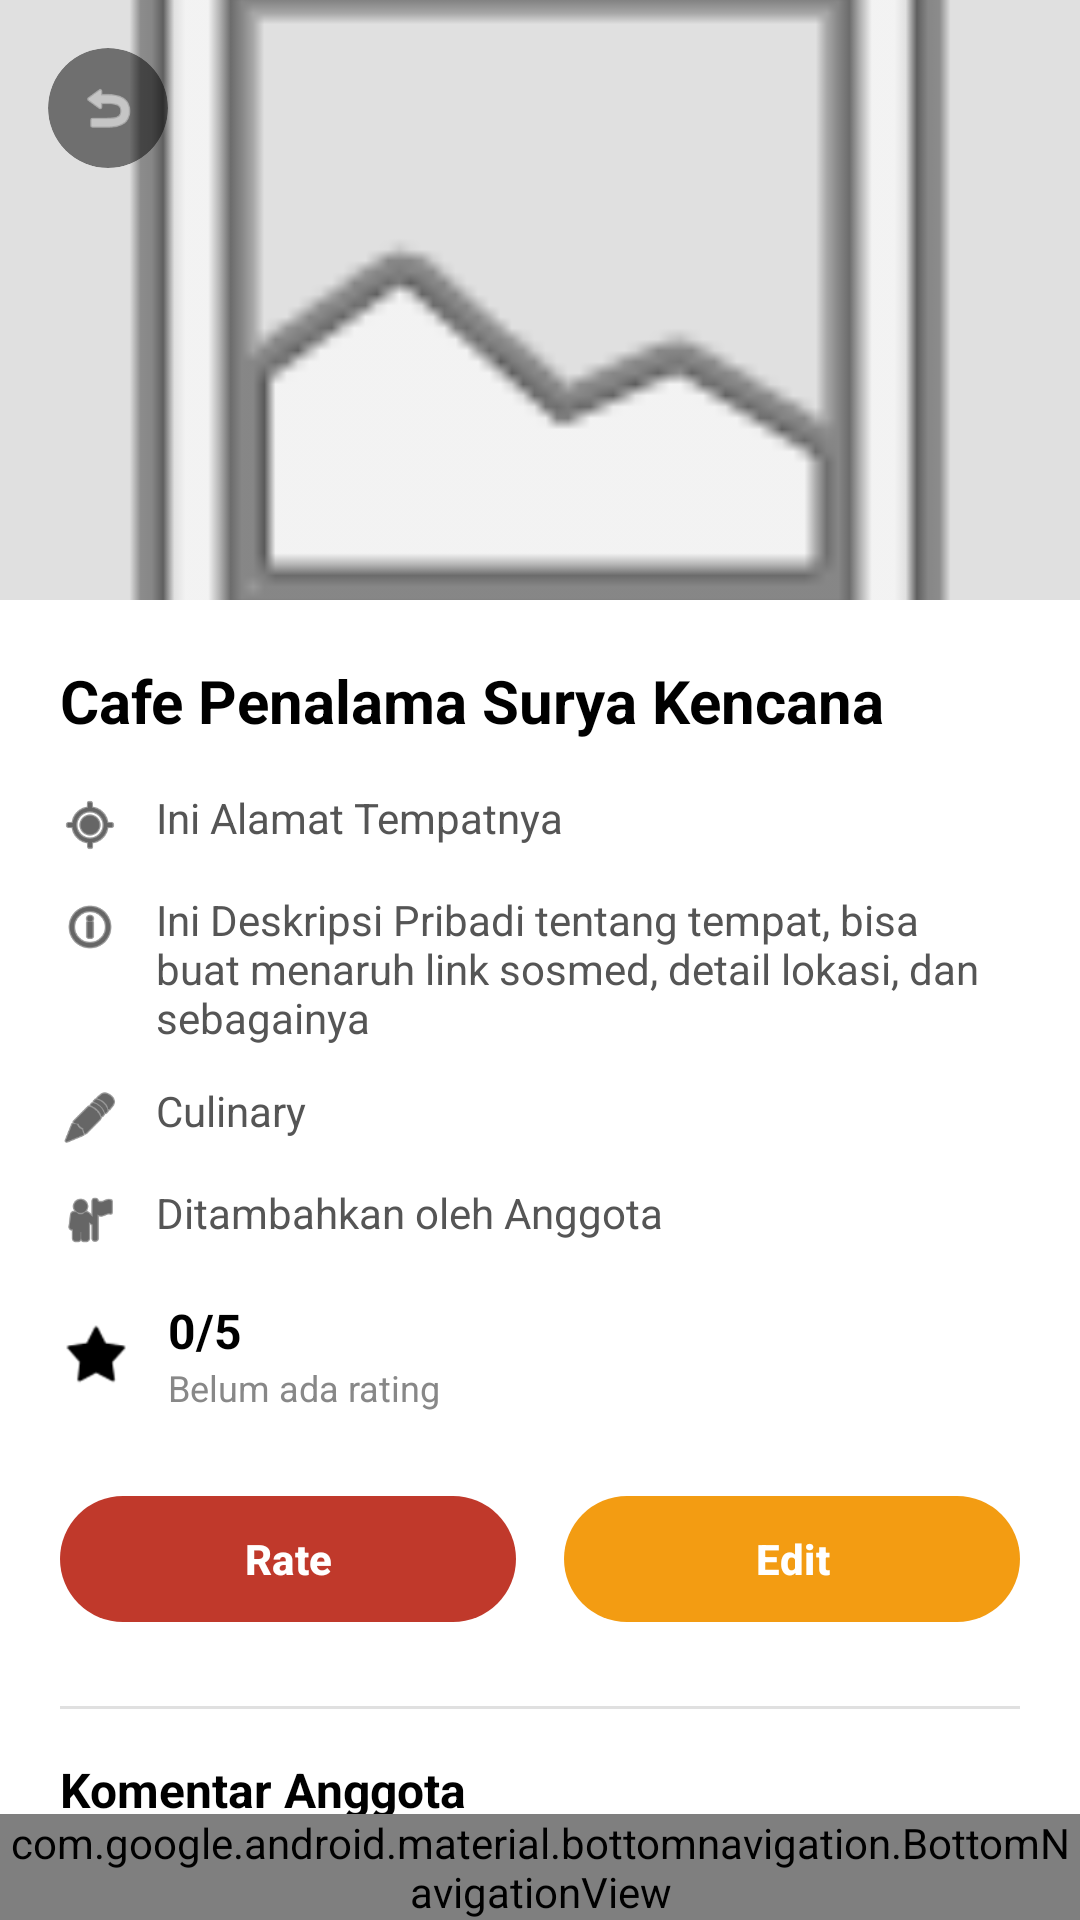

Icons on this 1080*1920 Android screen, each with the point to tap as [x,y]:
edit: [89,1117]
info details: [90,927]
mylocation: [90,825]
myplaces: [90,1220]
revert: [108,108]
star on: [96,1353]
